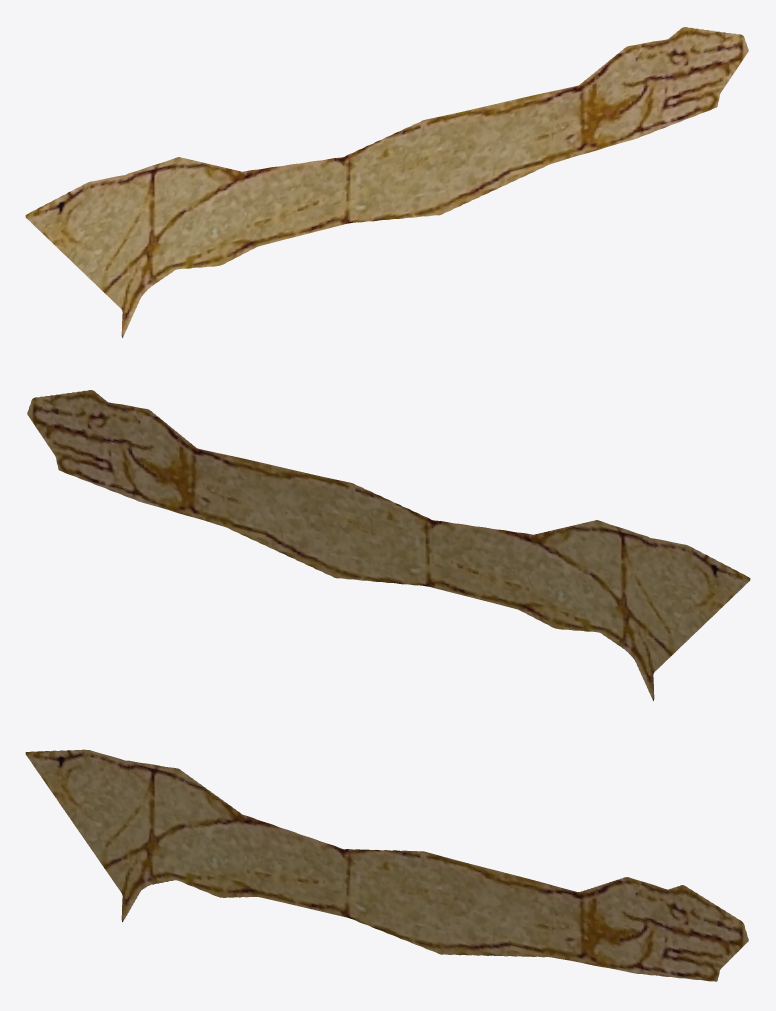
The model's file is arm_R.fbx.
3 views of the same model, one above another, from view 1: azimuth 30°, elevation 25°; view 2: azimuth 150°, elevation 25°; view 3: azimuth 330°, elevation 25° (orthographic).
Parts seen in each view (by area): view 1: arm_R; view 2: arm_R; view 3: arm_R.
Part boxes in pixels (x1,y1,x2,y2): arm_R: (25, 27, 748, 337); arm_R: (27, 390, 750, 700); arm_R: (25, 749, 748, 981).
Bounding box in the file's own units: 150 × 37.1 × 6.56e-06.
